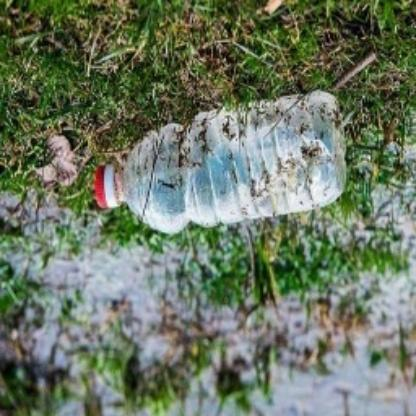plastic bottle: (93, 90, 350, 235)
